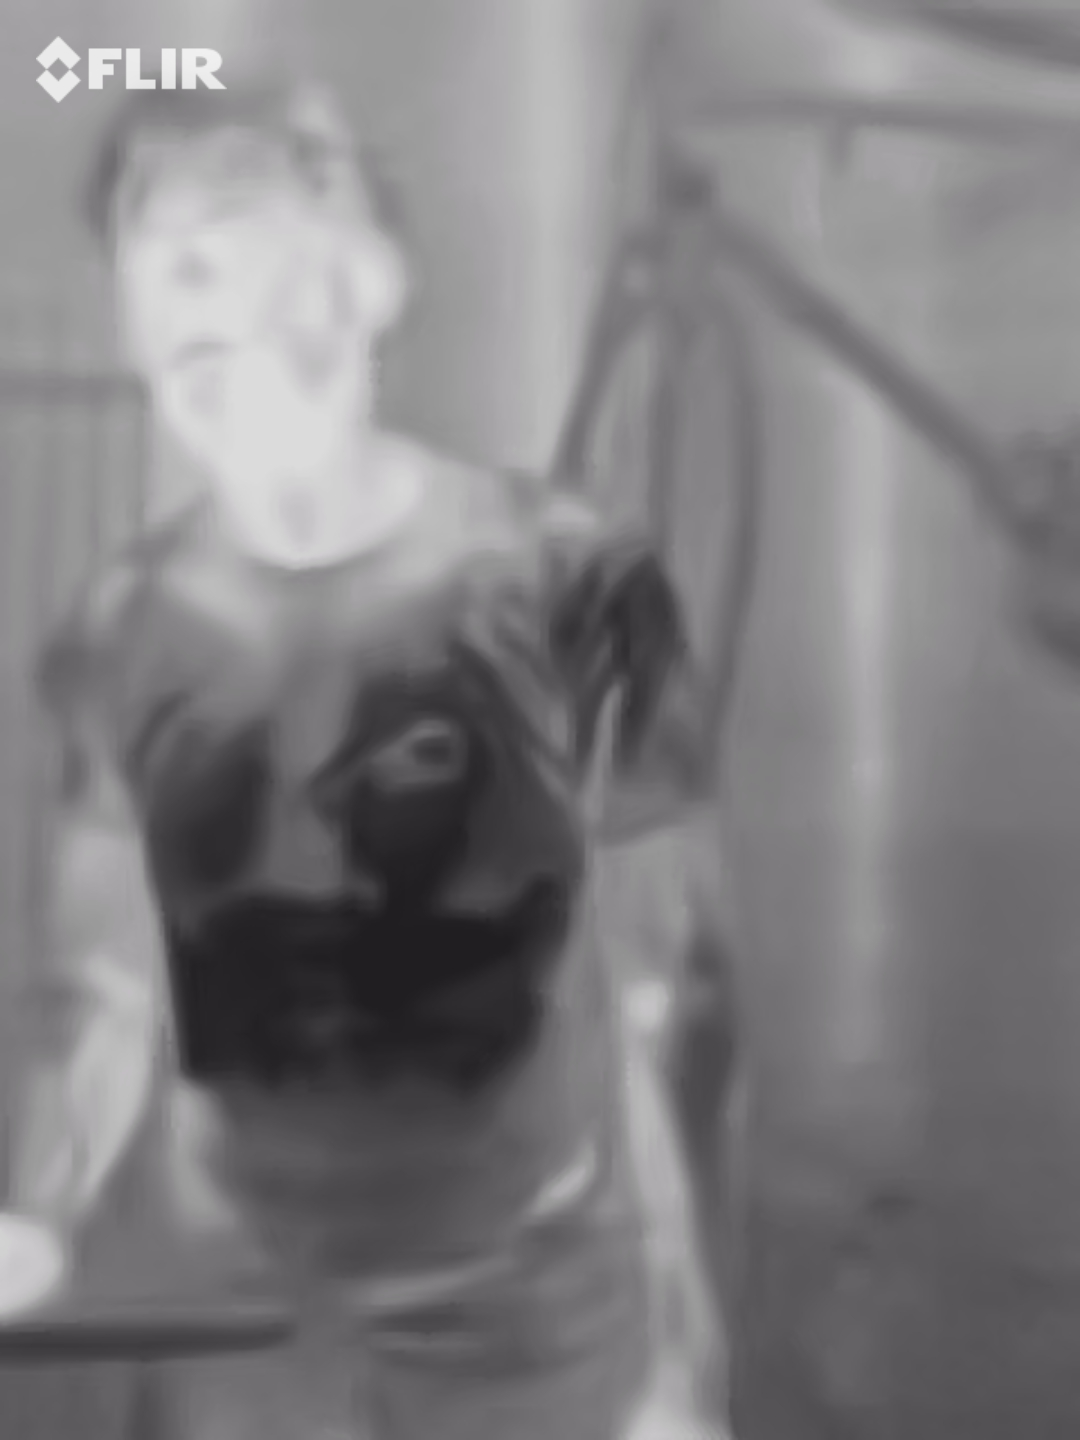head: (89, 91, 421, 484)
